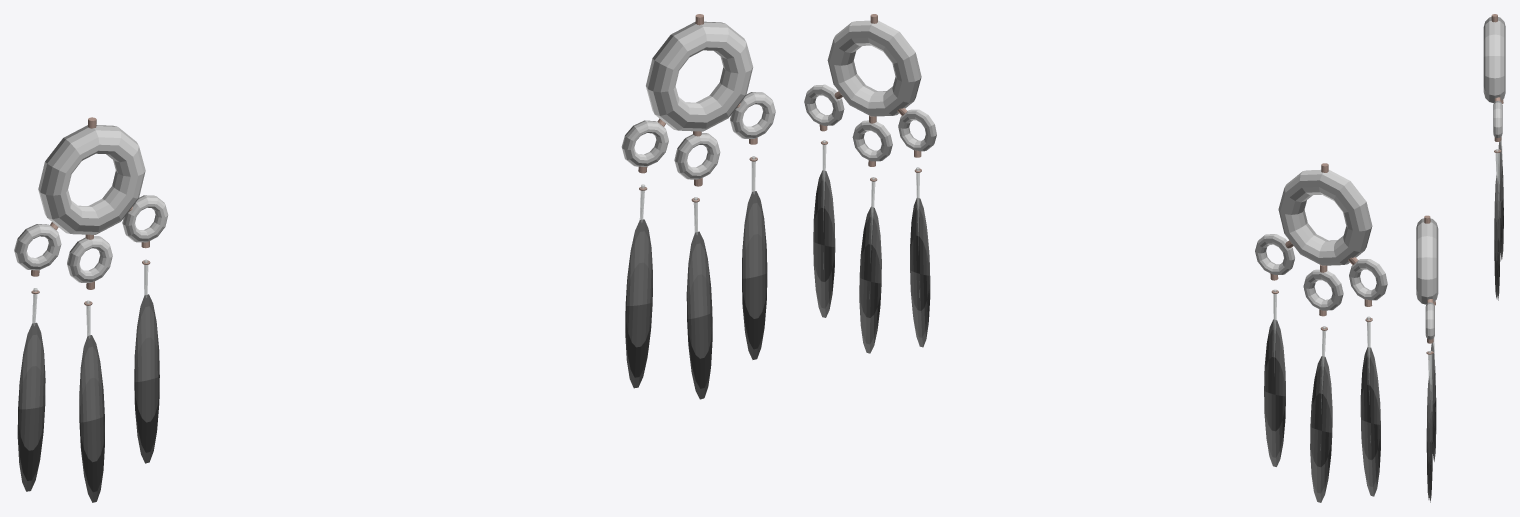
The model's file is earrings.glb.
3 renders of one model, left to right at view 1: azimuth 30°, elevation 25°; view 2: azimuth 150°, elevation 25°; view 3: azimuth 270°, elevation 25°, orthographic. The views are drawn at different scales.
Visible parts, largest first — view 1: model.001, model; view 2: model, model.001; view 3: model, model.001.
Boxes of the visible parts, box(x1,y1,x2,y2) form: model.001: box(14, 117, 168, 502); model: box(621, 14, 775, 399); model: box(804, 14, 936, 353); model.001: box(1255, 163, 1387, 502); model: box(1416, 215, 1438, 502); model.001: box(1483, 14, 1505, 300).
Size of the model in its own units: 1.93 by 0.9977 by 0.2853.
